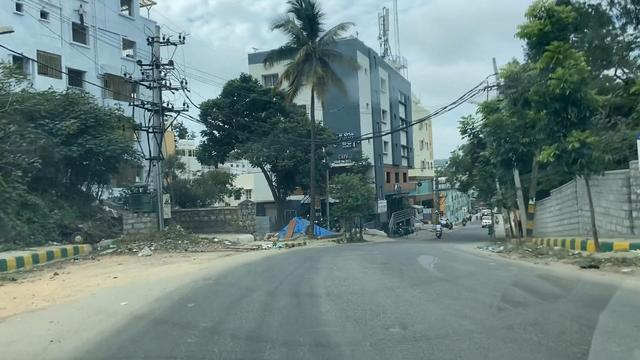RoadDamages: (406, 232, 446, 285), (375, 313, 421, 349)
